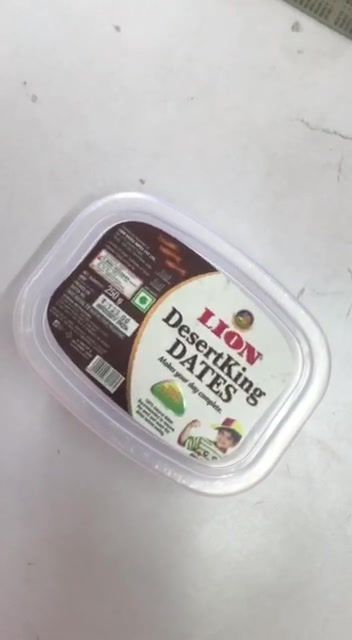Lion dates: (12, 193, 332, 497)
